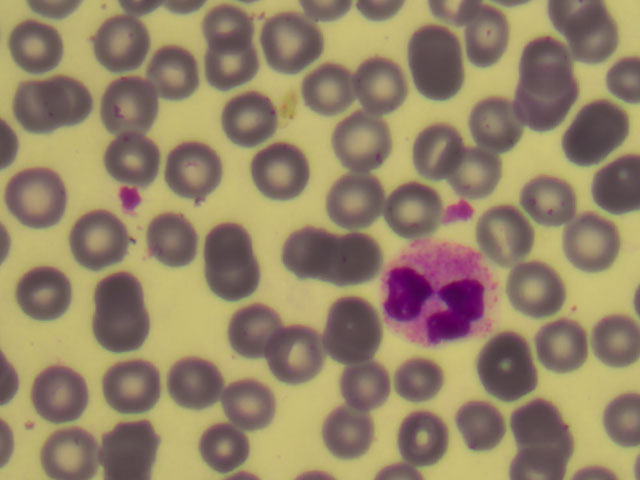Platelets: (114, 187, 142, 212), (453, 198, 476, 225)
RBC: (5, 19, 66, 81), (94, 11, 155, 73), (144, 38, 205, 100), (101, 81, 162, 143), (43, 68, 104, 130), (11, 81, 72, 143), (4, 164, 65, 226), (98, 119, 159, 181), (167, 139, 228, 201), (215, 89, 276, 151), (203, 38, 264, 100), (201, 5, 262, 67), (264, 5, 325, 67), (301, 64, 362, 126), (345, 53, 406, 115), (333, 117, 394, 179), (243, 135, 304, 197), (332, 161, 393, 223), (286, 220, 347, 282), (319, 228, 380, 290), (197, 209, 258, 271), (143, 205, 204, 267), (61, 205, 122, 267), (18, 266, 79, 328), (90, 260, 151, 322), (88, 294, 149, 356), (200, 247, 261, 309), (221, 303, 282, 365), (268, 321, 329, 383), (323, 301, 384, 363), (326, 350, 387, 412), (308, 406, 369, 468), (387, 347, 448, 409), (398, 413, 459, 475), (449, 388, 510, 450), (482, 341, 543, 403), (526, 314, 587, 376), (511, 258, 572, 320), (481, 207, 542, 269), (518, 169, 579, 231), (447, 138, 508, 200), (404, 128, 465, 190), (385, 178, 446, 240), (462, 93, 523, 155), (411, 45, 472, 107), (450, 12, 511, 74), (514, 34, 575, 96), (519, 71, 580, 133), (575, 91, 636, 153), (579, 151, 640, 213), (561, 212, 622, 274), (579, 311, 640, 373), (511, 391, 572, 453), (197, 418, 258, 480), (217, 377, 278, 439), (167, 348, 228, 410), (103, 351, 164, 413), (29, 361, 90, 423), (40, 418, 101, 480), (107, 418, 168, 480)
WBC: (382, 239, 504, 351)
